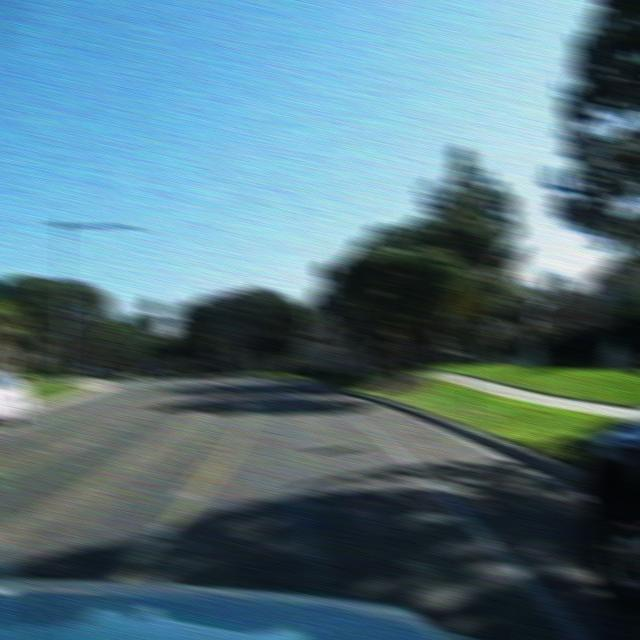pedestrianCrossing: (448, 283, 485, 326)
